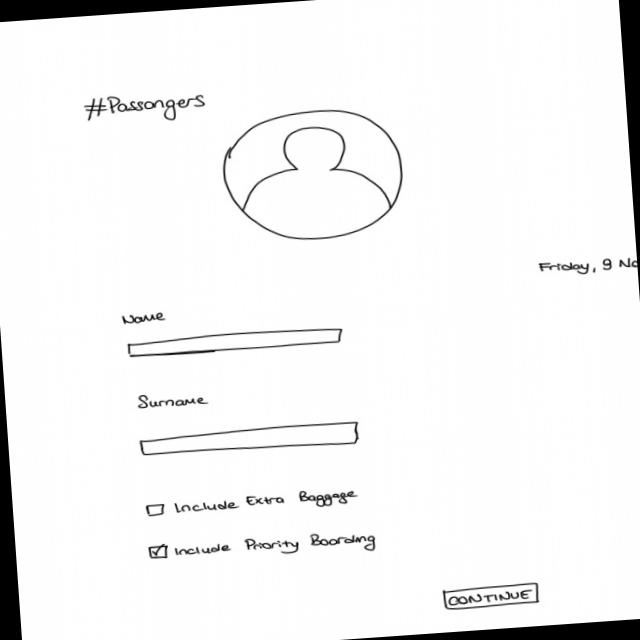button: (442, 581, 542, 613)
checkbox: (147, 528, 379, 569), (144, 487, 363, 522)
image: (218, 104, 411, 248)
input: (139, 420, 362, 461), (126, 324, 346, 360)
label: (83, 89, 211, 128), (536, 255, 639, 279), (136, 389, 211, 412), (120, 312, 167, 328)
